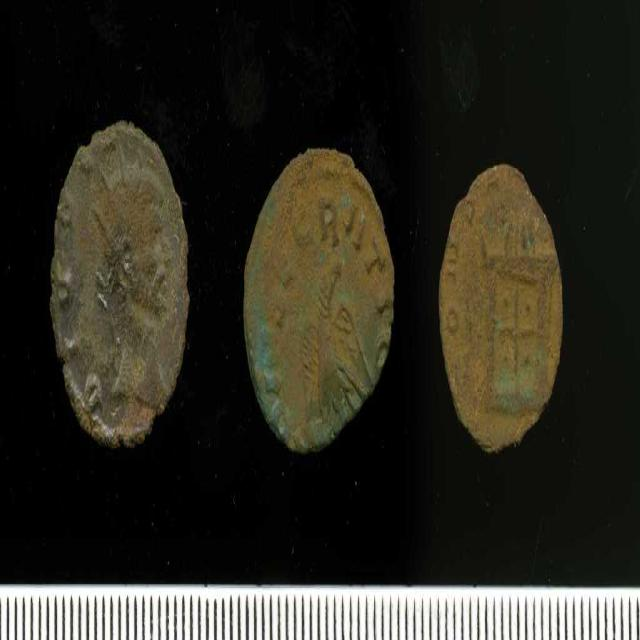Coin: (240, 141, 395, 455), (48, 116, 190, 443), (434, 163, 563, 459)
